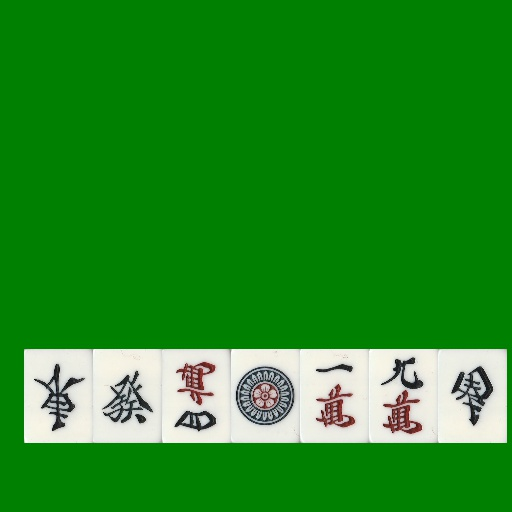1m: (300, 349, 369, 443)
1p: (231, 349, 300, 443)
4m: (162, 349, 231, 443)
9m: (369, 349, 438, 443)
east: (24, 349, 93, 443)
hatsu: (93, 349, 162, 443)
south: (438, 349, 507, 443)
